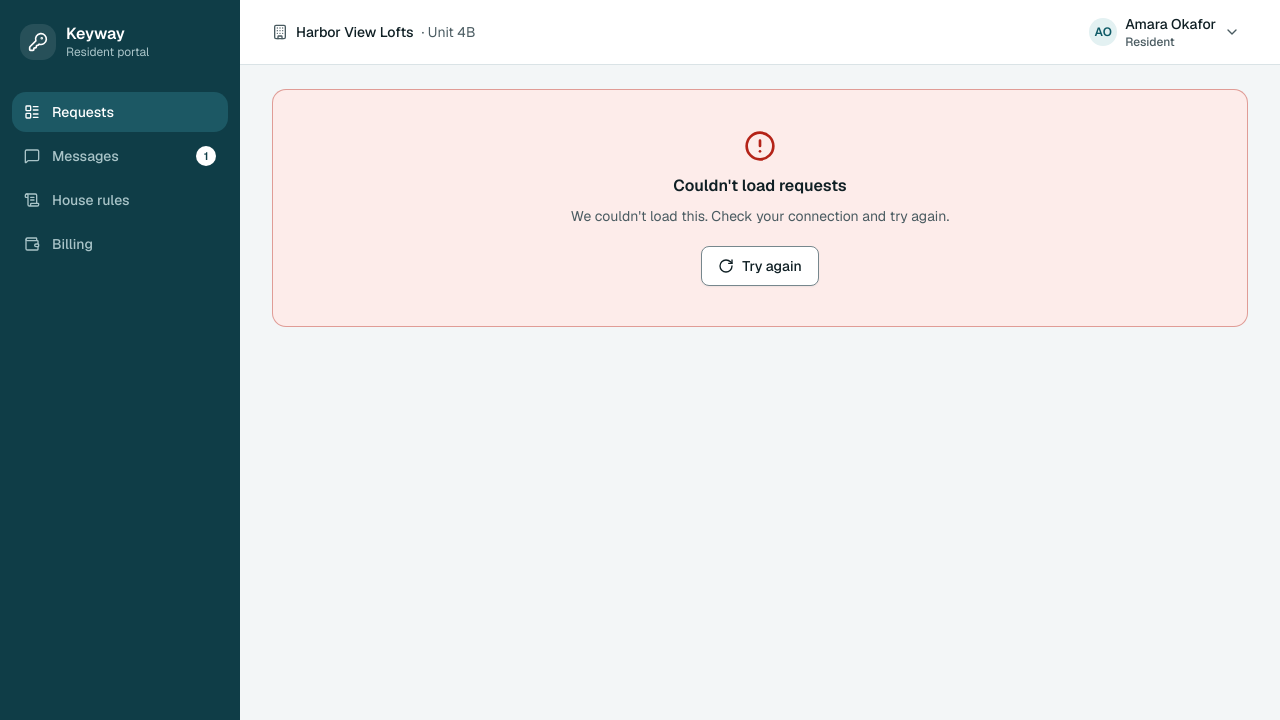
Test case: RequestList › shows an error with a working retry
Expected: the message shows "Couldn't load requests", [673,175,847,196]
Click the button "Try again".
click(760, 266)  # box [701,246,819,286]
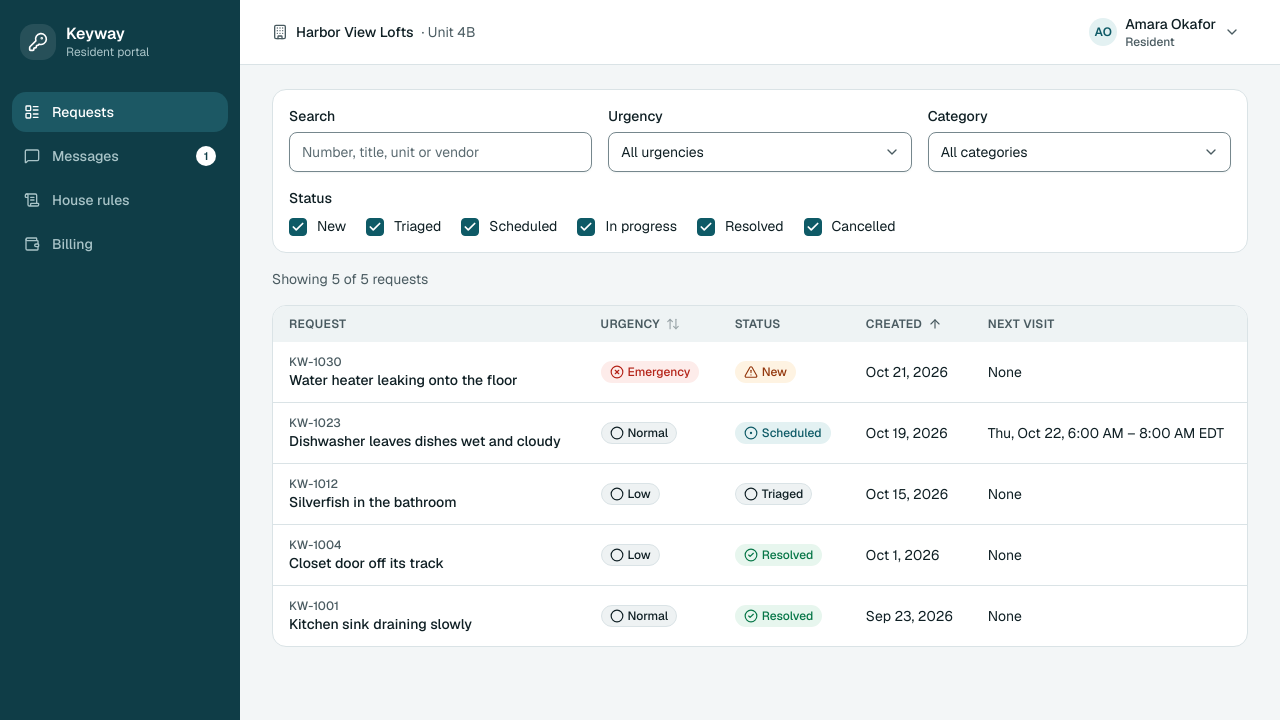
Now the table is shown, box [273,306,1247,646]
